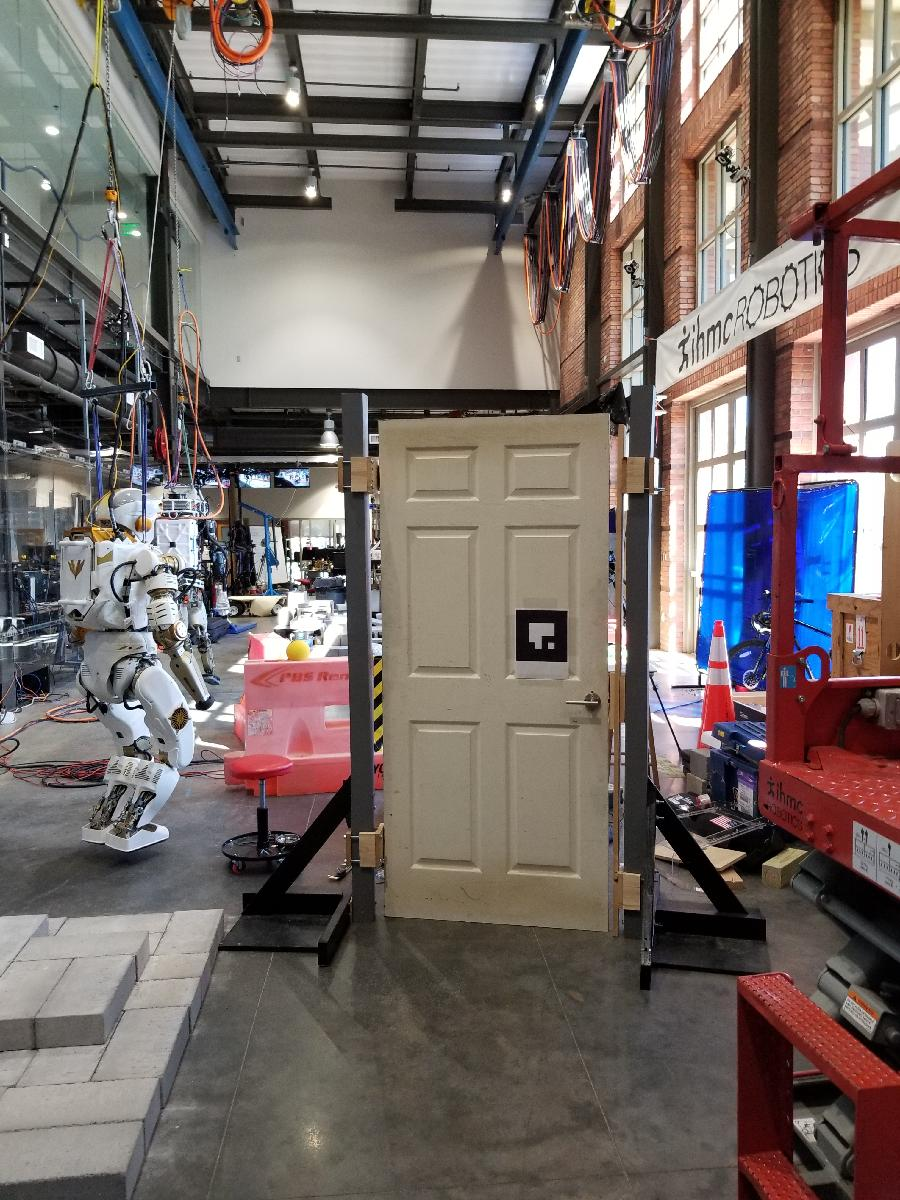door: (376, 409, 619, 938)
doorHandle: (565, 689, 604, 718)
